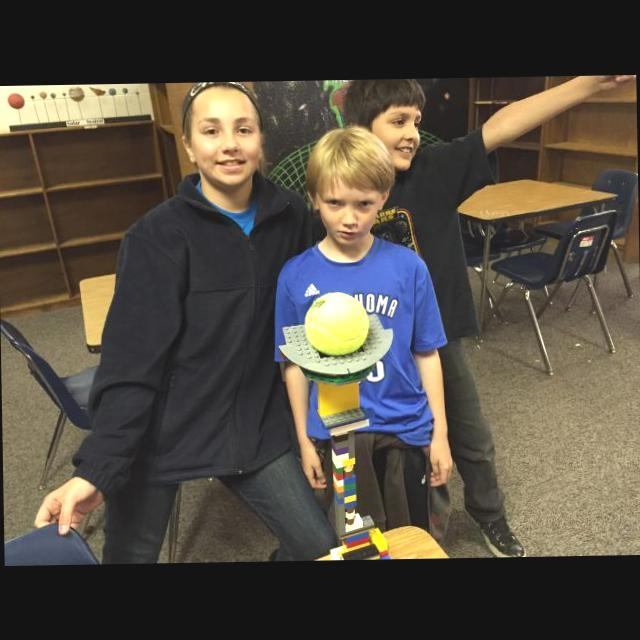Tennis Ball: (302, 291, 368, 356)
